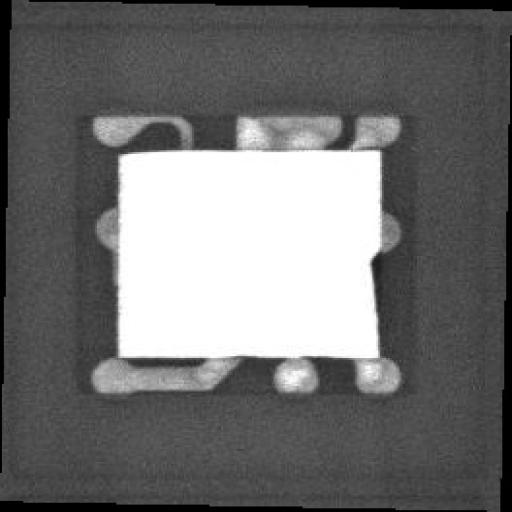DIE_INK: (367, 245, 380, 358)
